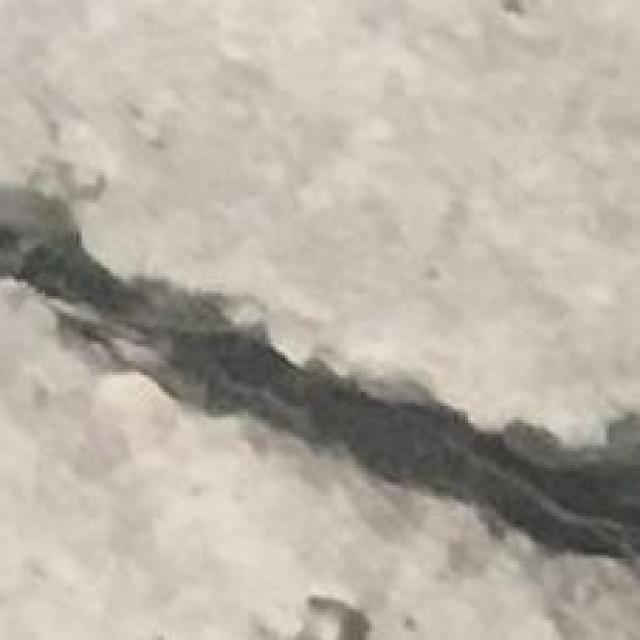diagonal crack: (0, 221, 639, 573)
